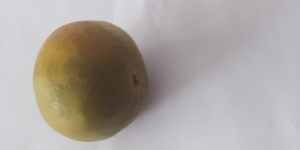BAD: (31, 19, 148, 142)
